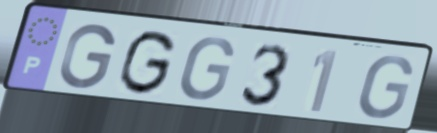1: (308, 47, 342, 115)
3: (239, 42, 293, 109)
G: (55, 21, 119, 92), (116, 28, 179, 98), (176, 35, 237, 103), (355, 53, 416, 121)
